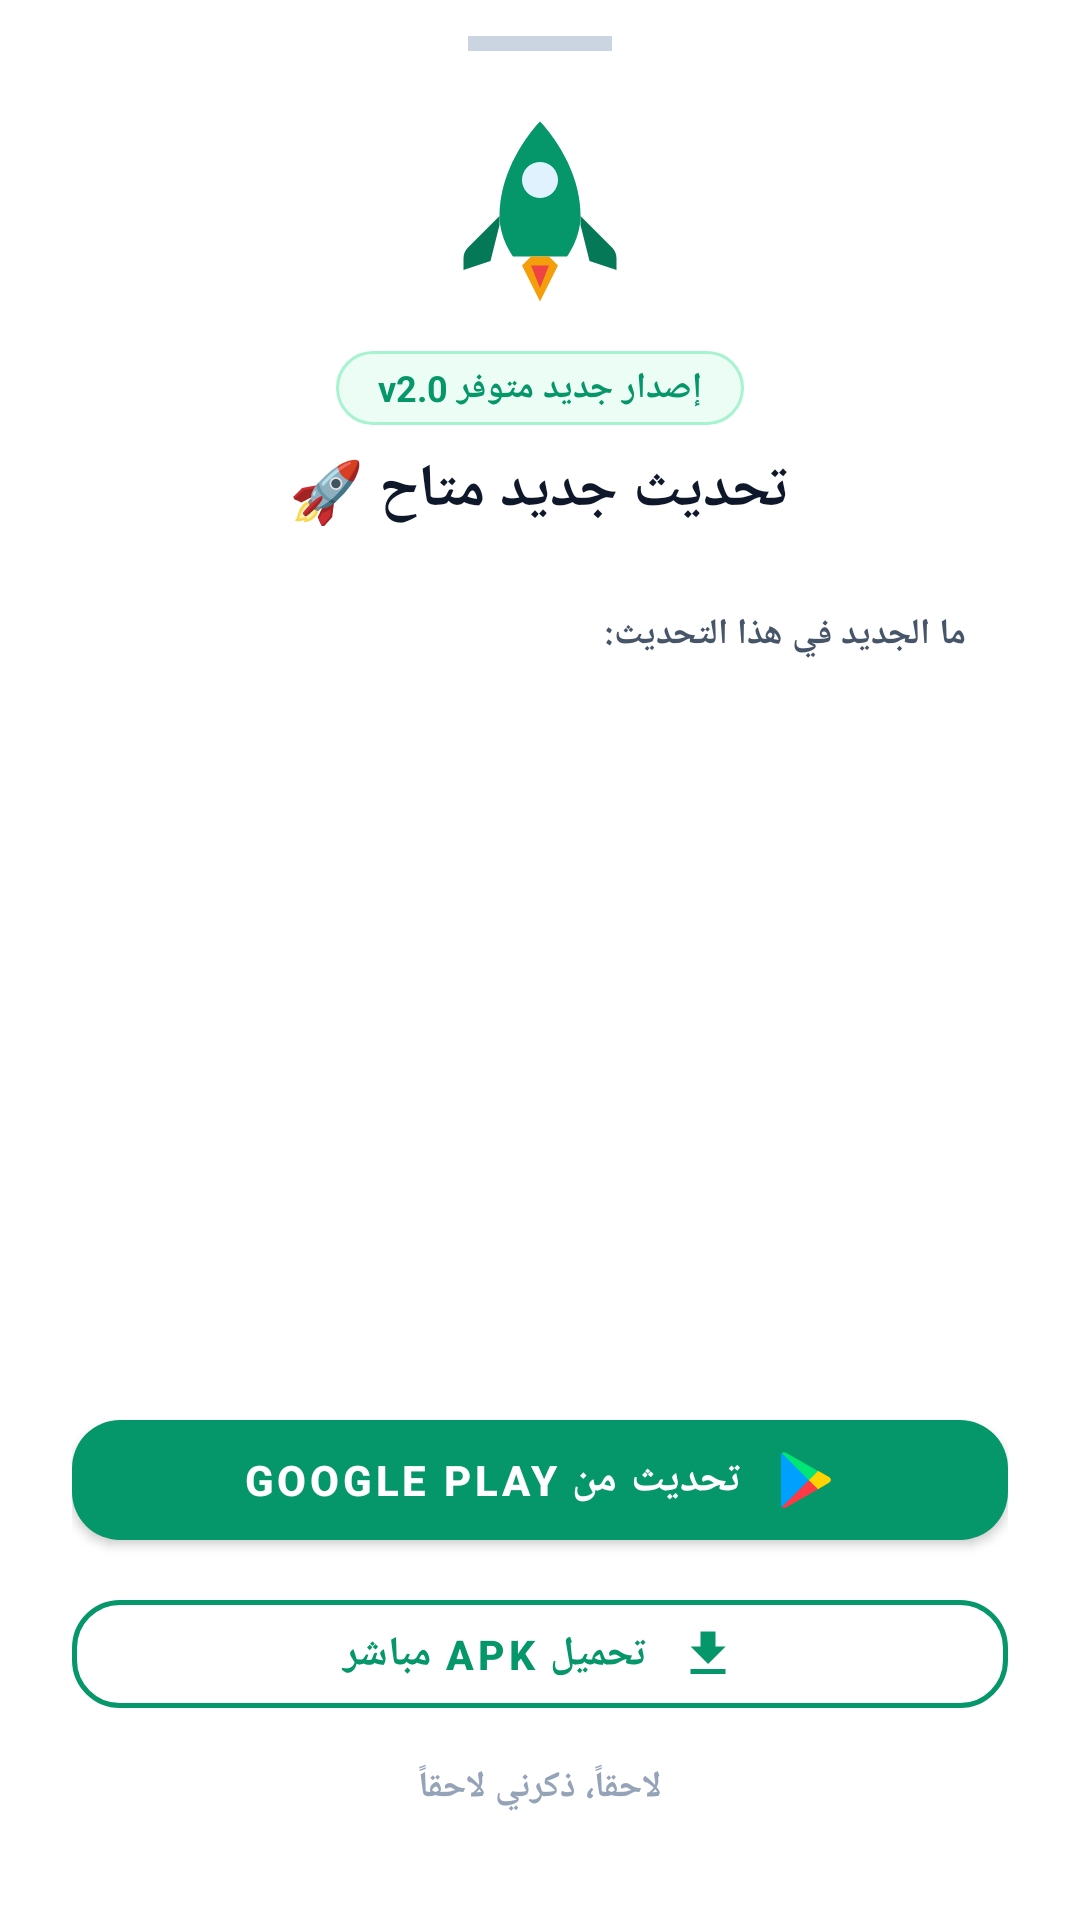

Icons on this 1080*1920 Android screen, each with the point to tap as (x,y):
شعار التحديث: (540,211)
